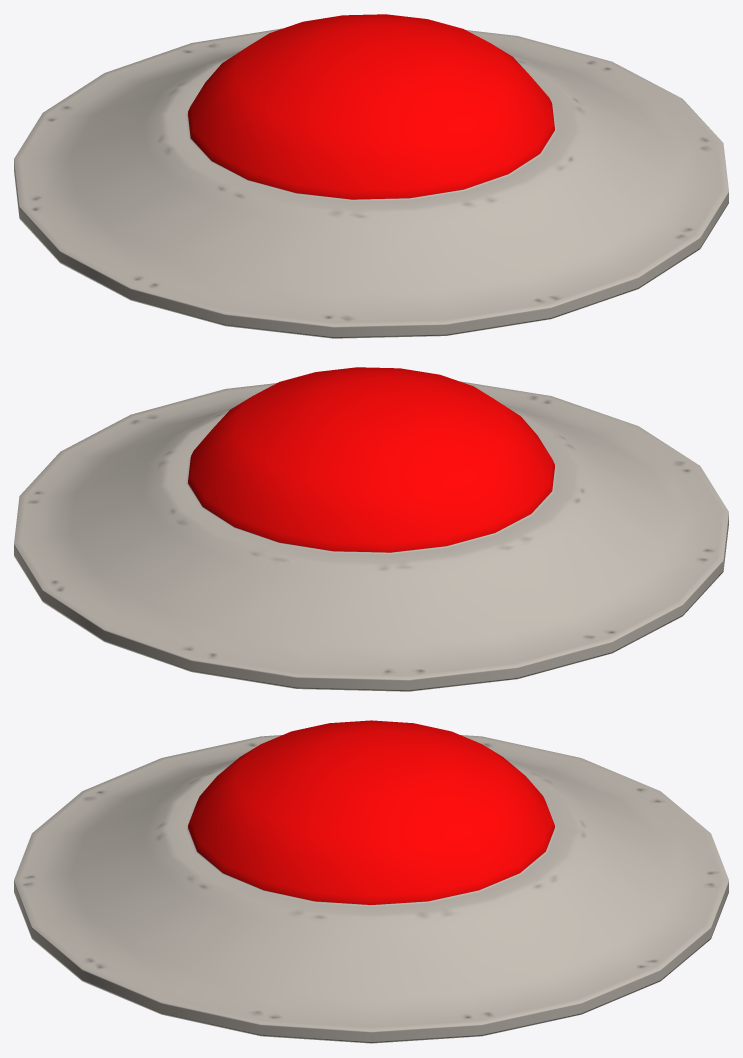
Rendered from UFOKamikaze.fbx.
The picture shows the model from 3 angles, top to bottom: view 1: azimuth 30°, elevation 25°; view 2: azimuth 150°, elevation 25°; view 3: azimuth 270°, elevation 25°; orthographic projection.
Parts seen in each view (by area): view 1: UFO2; view 2: UFO2; view 3: UFO2.
Boxes of the visible parts, x1,y1,x2,y2 form: UFO2: [14, 14, 728, 338]; UFO2: [14, 367, 728, 691]; UFO2: [14, 720, 728, 1043].
Bounding box in the file's own units: 25.57 × 7.59 × 25.61.
